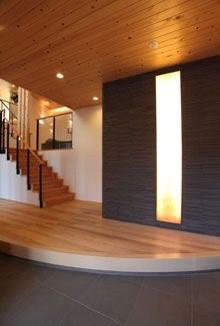floor: (0, 254, 219, 325)
safe: (0, 199, 219, 258)
